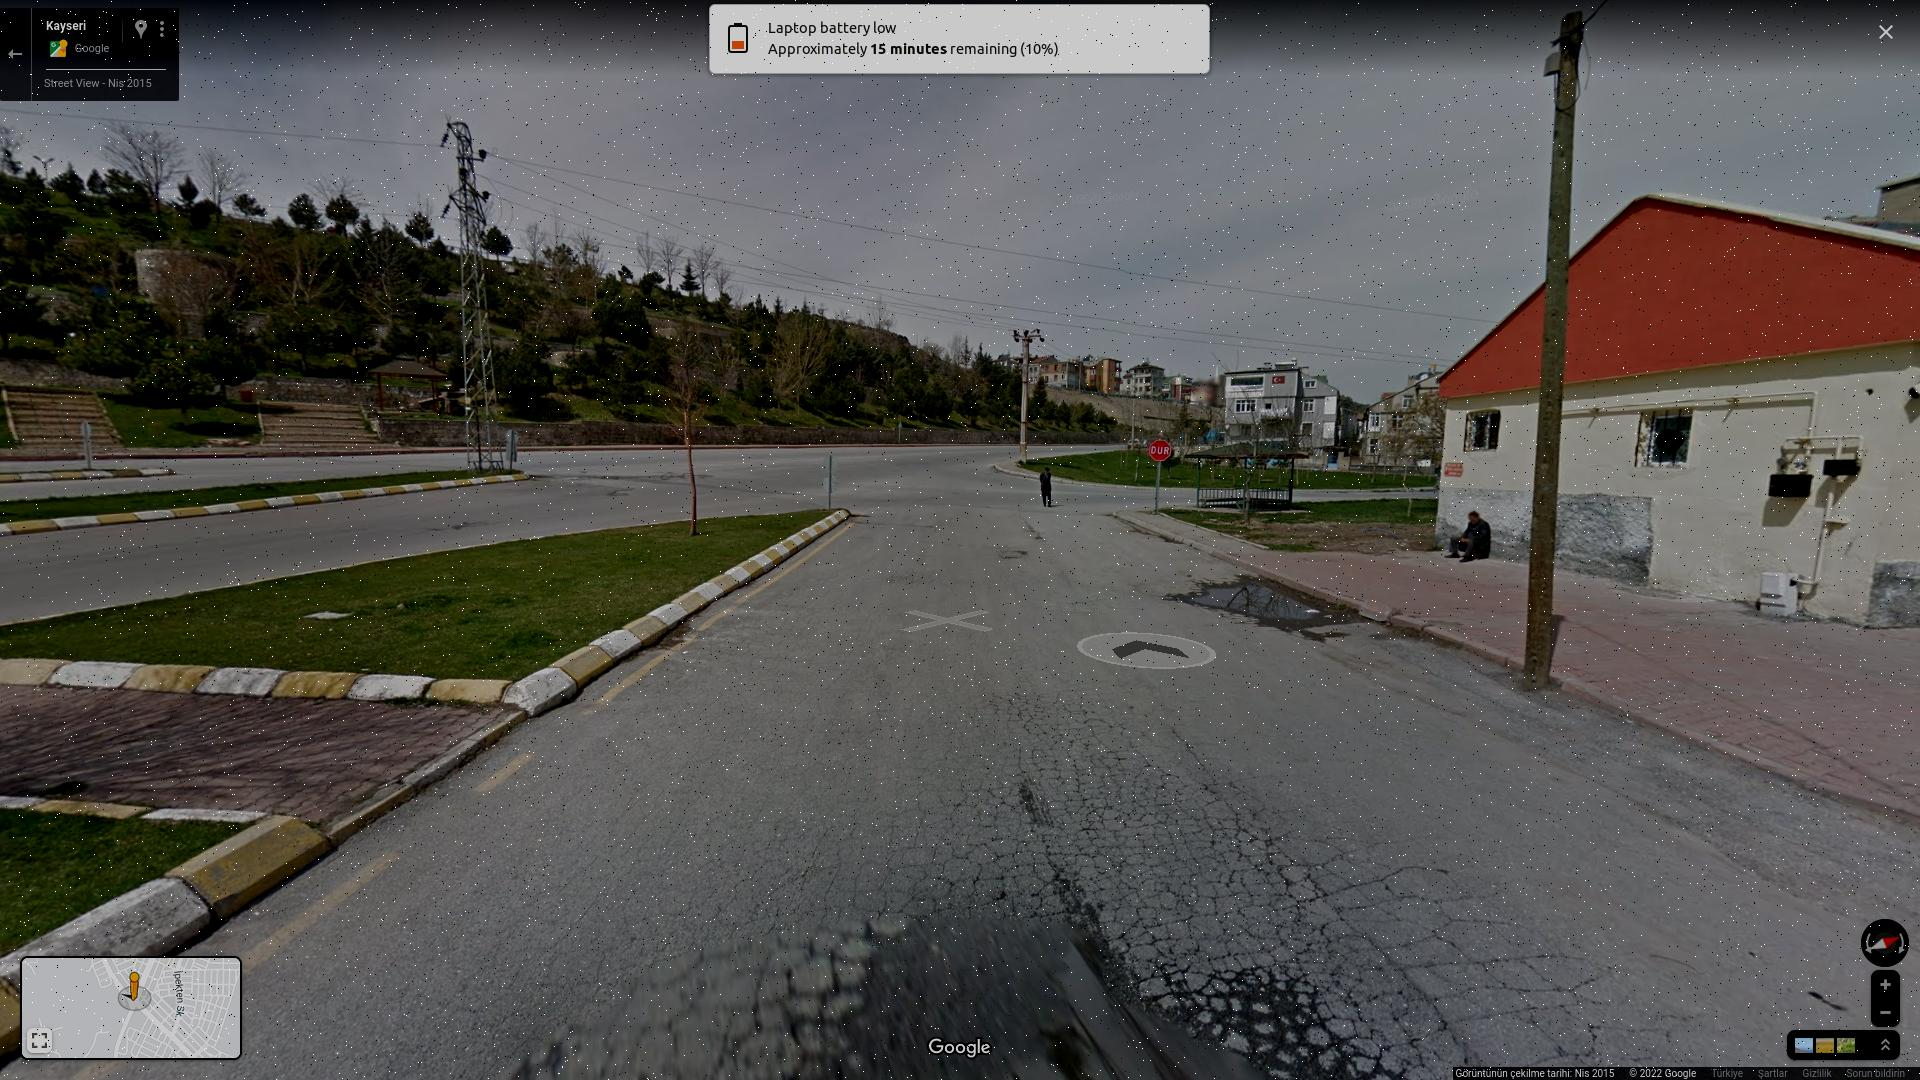stop: (1149, 439, 1172, 463)
